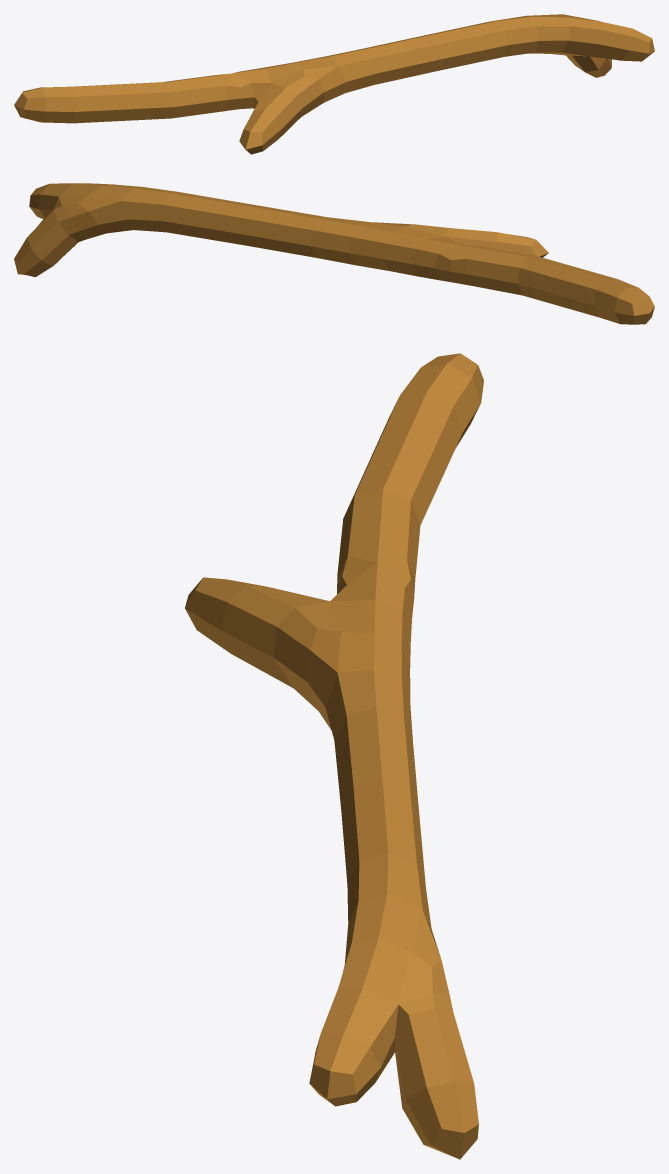
The model's file is StickV2.fbx.
3 renders of one model, top to bottom at view 1: azimuth 30°, elevation 25°; view 2: azimuth 150°, elevation 25°; view 3: azimuth 270°, elevation 25°, orthographic. The views are drawn at different scales.
Parts seen in each view (by area): view 1: StickV2; view 2: StickV2; view 3: StickV2.
Part boxes in pixels (<box>): StickV2: <box>14,14,654,154</box>; StickV2: <box>14,183,654,324</box>; StickV2: <box>185,353,483,1159</box>.
Bounding box in the file's own units: 38.68 × 7.59 × 8.26.
